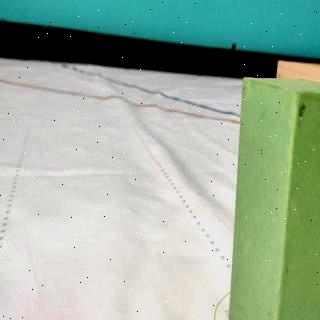greenbox: (228, 77, 320, 320)
